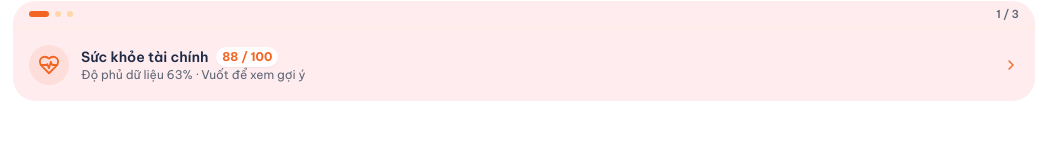
HomeInsightWidget Carousel & Health Score › renders 3-slide carousel, displays Health Score on slide 1 and navigates to insight slides
The width and height of the screenshot is (1048, 160).
Expected: the text "88 / 100" is shown, top-left (216, 47), bottom-right (278, 67)
Expected: the text "Độ phủ dữ liệu 63% · Vuốt để xem gợi ý" is shown, top-left (81, 67), bottom-right (306, 82)
Press the mouse on the element with class "touch-pan-y" at (524, 65), box top-left (13, 29), bottom-right (1035, 101)
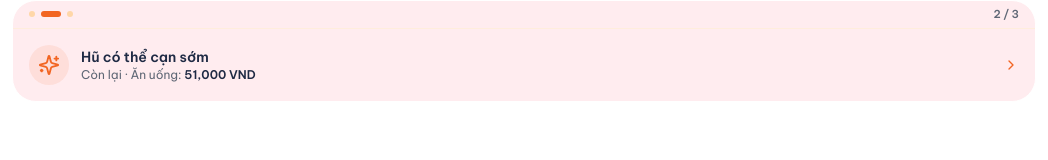
Expected: the text "2 / 3" is shown, top-left (993, 7), bottom-right (1019, 22)
Expected: the text "Hũ có thể cạn sớm" is shown, top-left (81, 48), bottom-right (209, 66)
Expected: the text "Còn lại · Ăn uống: 51,000 VND" is shown, top-left (81, 67), bottom-right (256, 82)
Press the mouse on the element with class "touch-pan-y" at (524, 65), box top-left (13, 29), bottom-right (1035, 101)
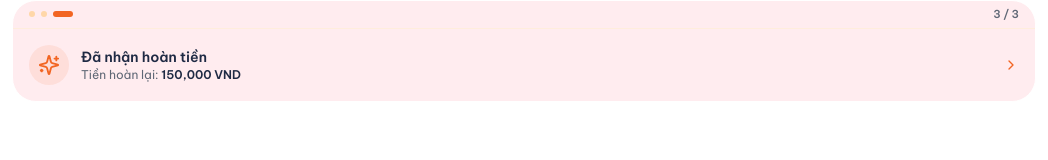
Expected: the text "3 / 3" is shown, top-left (993, 7), bottom-right (1019, 22)
Expected: the text "Đã nhận hoàn tiền" is shown, top-left (81, 48), bottom-right (207, 66)
Expected: the text "Tiền hoàn lại: 150,000 VND" is shown, top-left (81, 67), bottom-right (241, 82)
Press ArrowLeft in the element named "Gợi ý tài chính và Sức khỏe tài chính"
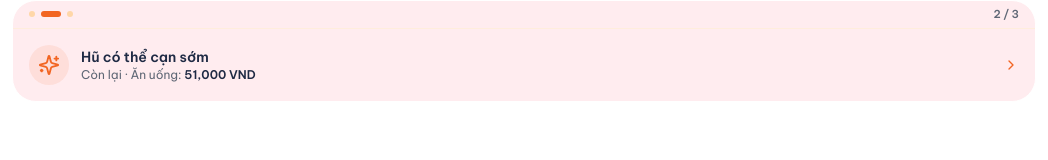
Expected: the text "2 / 3" is shown, top-left (993, 7), bottom-right (1019, 22)
